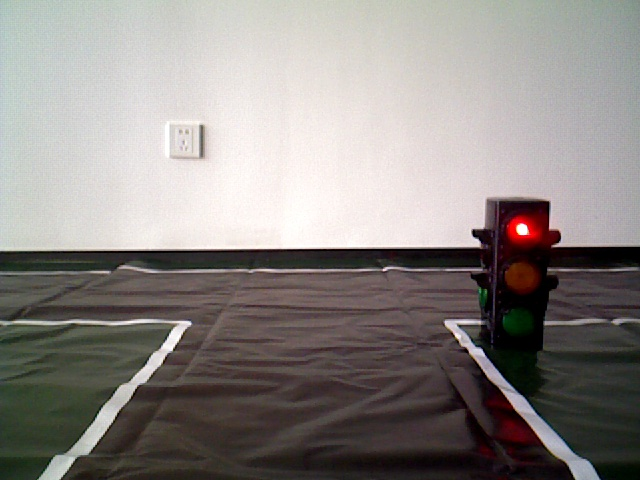red: (486, 203, 543, 344)
